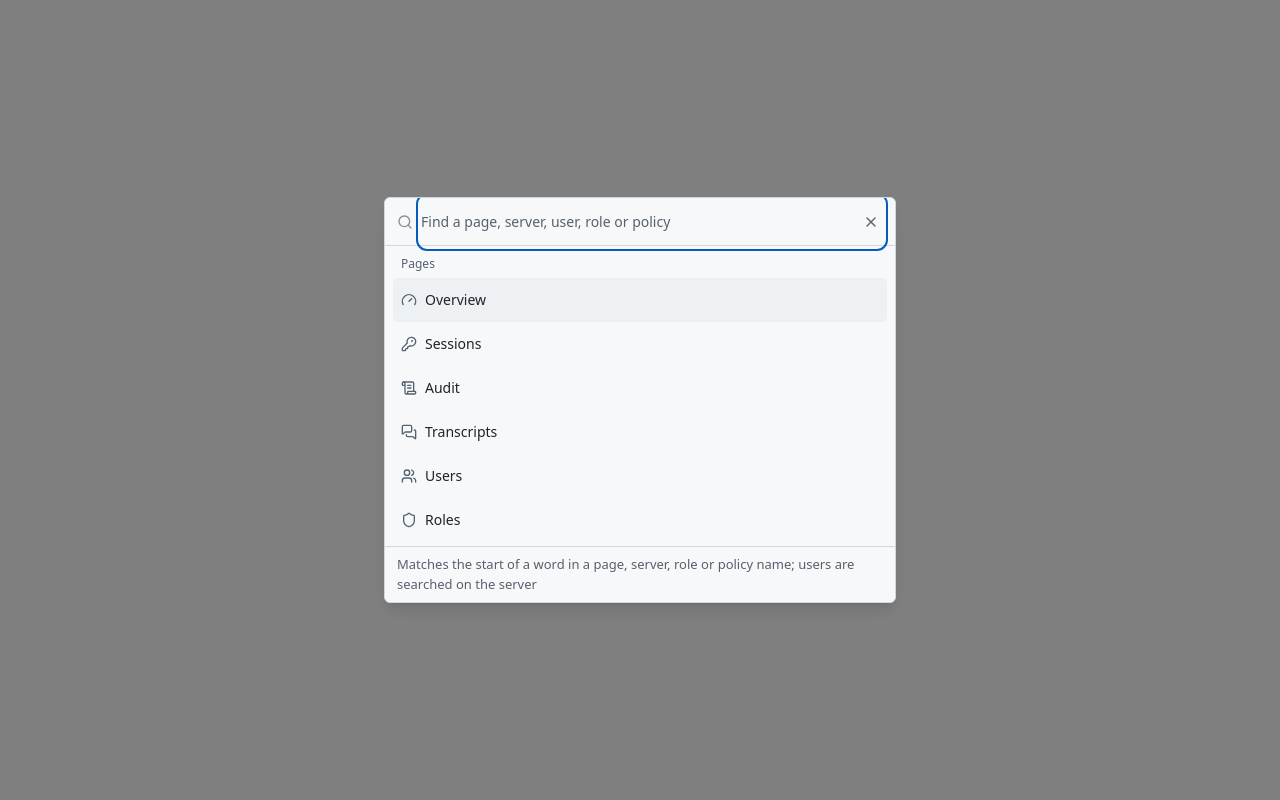
Test: the palette › typing run lists the servers [] and the pages []
Type "run" into the dropdown at (652, 222), box 421,198 -> 883,246
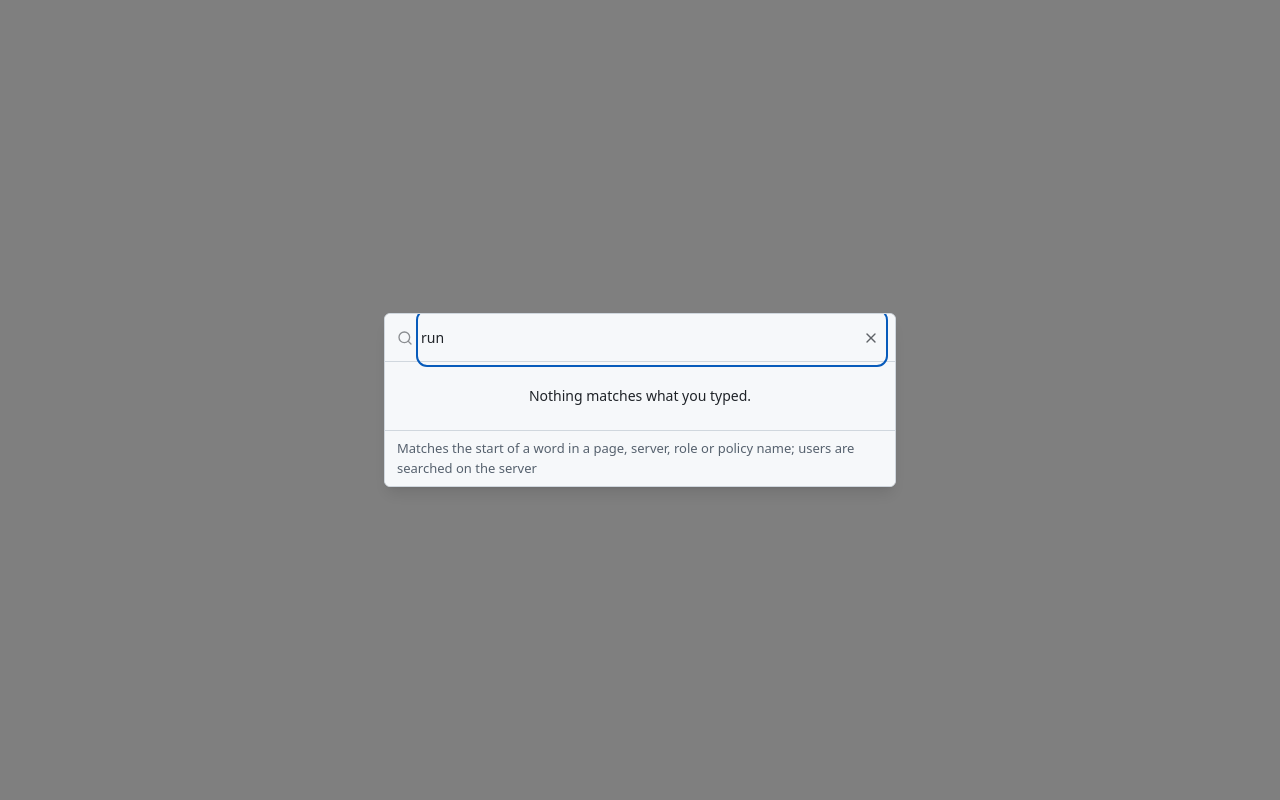
Expected: the text "Matches the start of a word in a page, server, role or policy name; users are searched on the server" is shown, 397,439 -> 854,476
Expected: the text "Nothing matches what you typed." is shown, 529,386 -> 751,405
